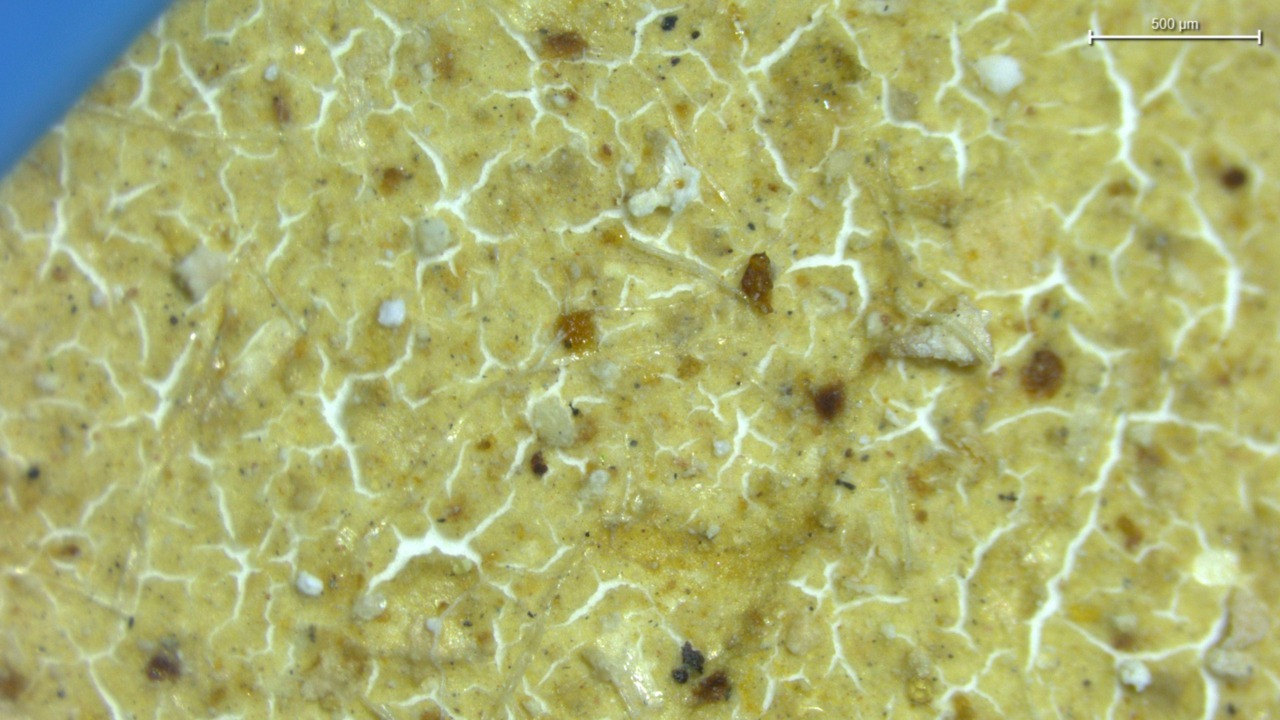microplastic_fragment: (890, 294, 994, 368), (628, 139, 700, 217), (377, 299, 406, 327), (295, 572, 323, 596)
